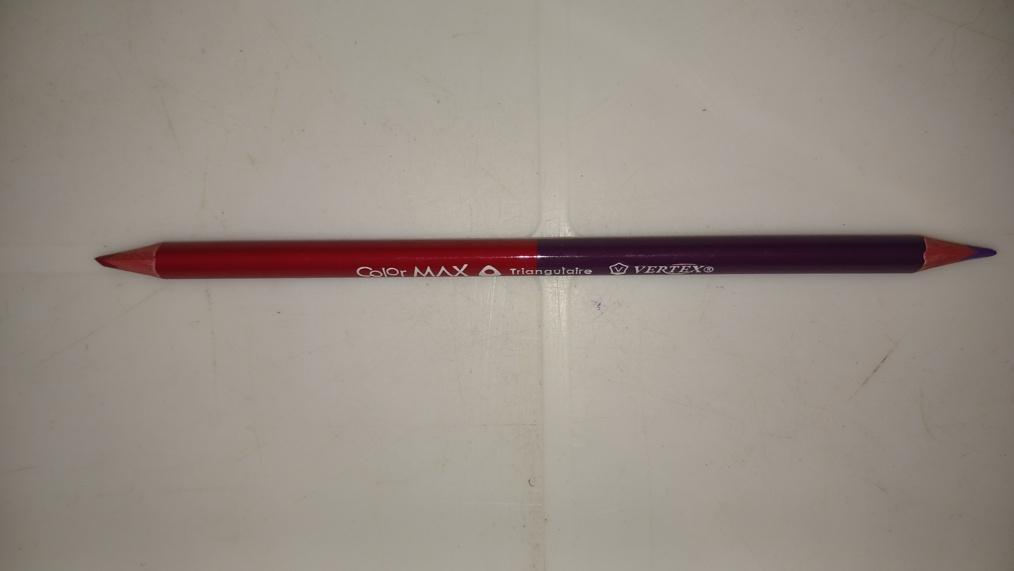Pencil: (94, 239, 997, 276)
